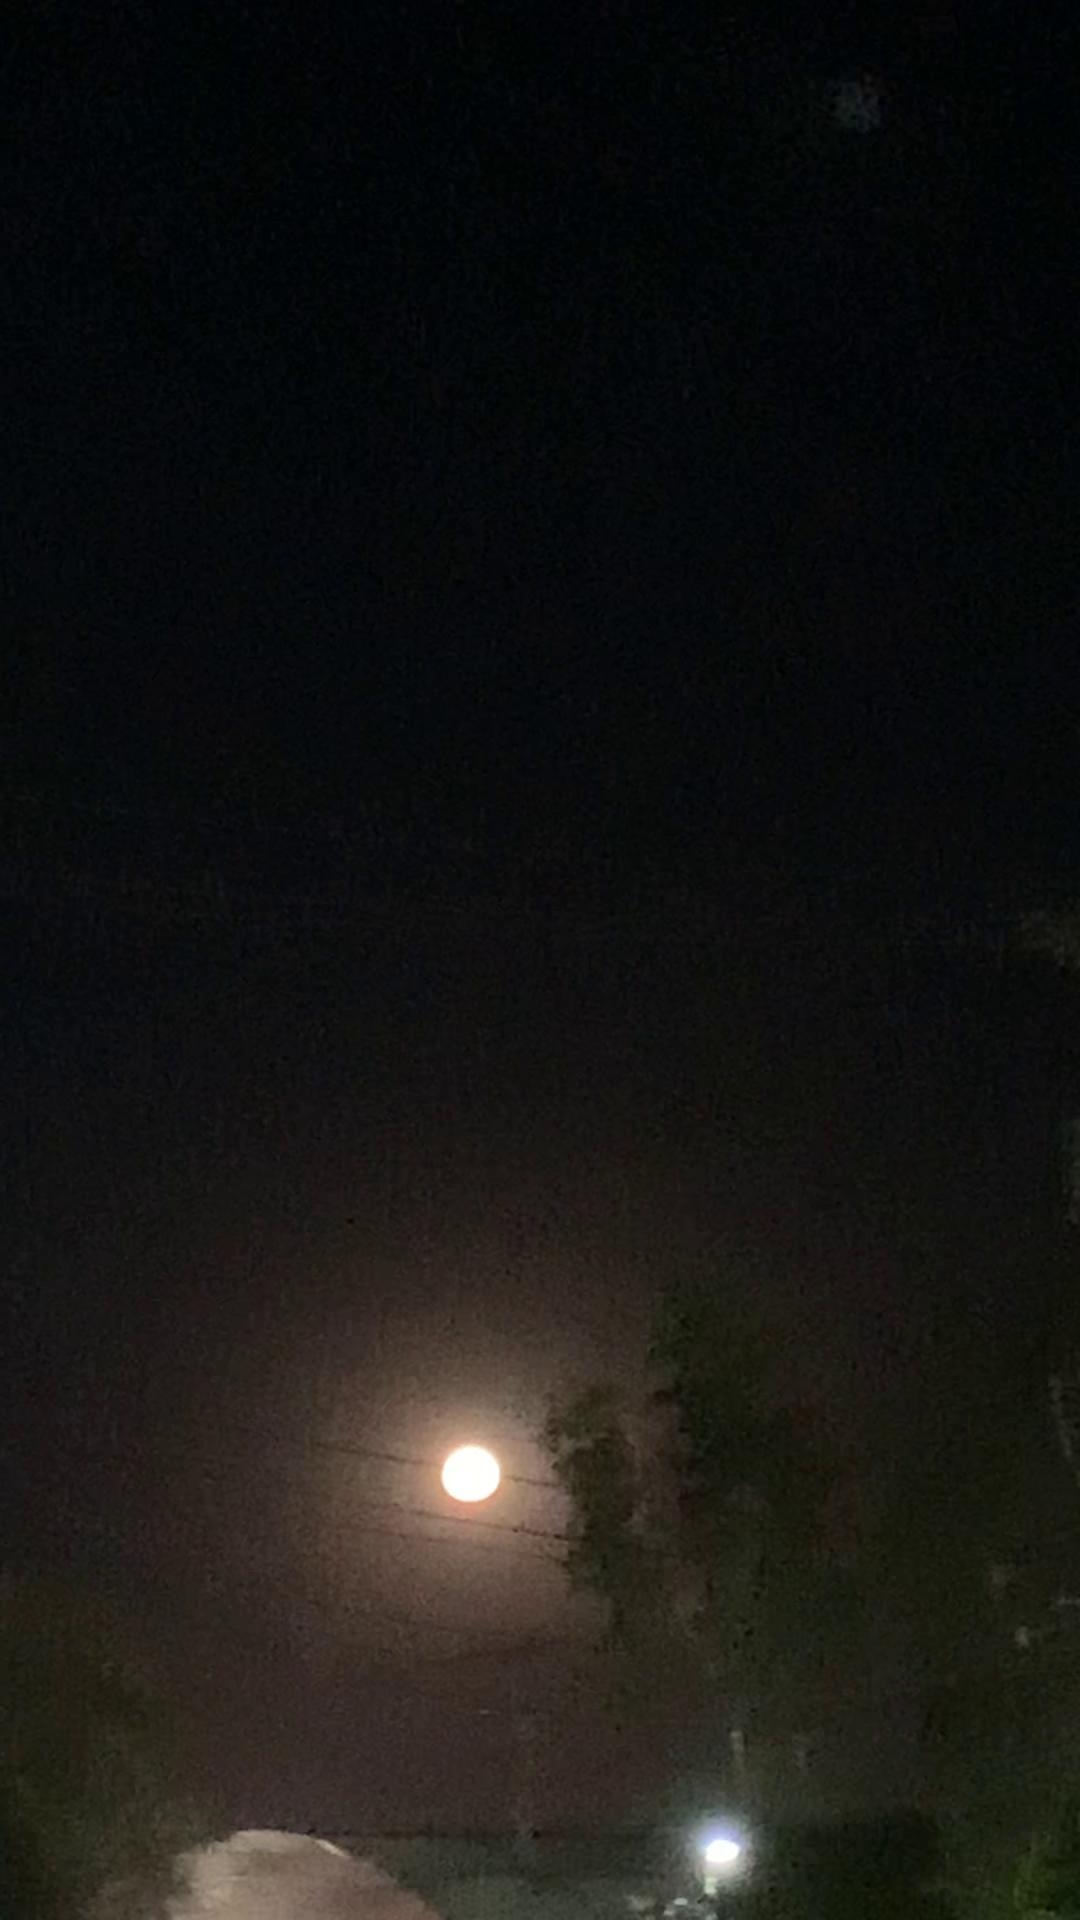moon: (407, 1443, 496, 1519)
